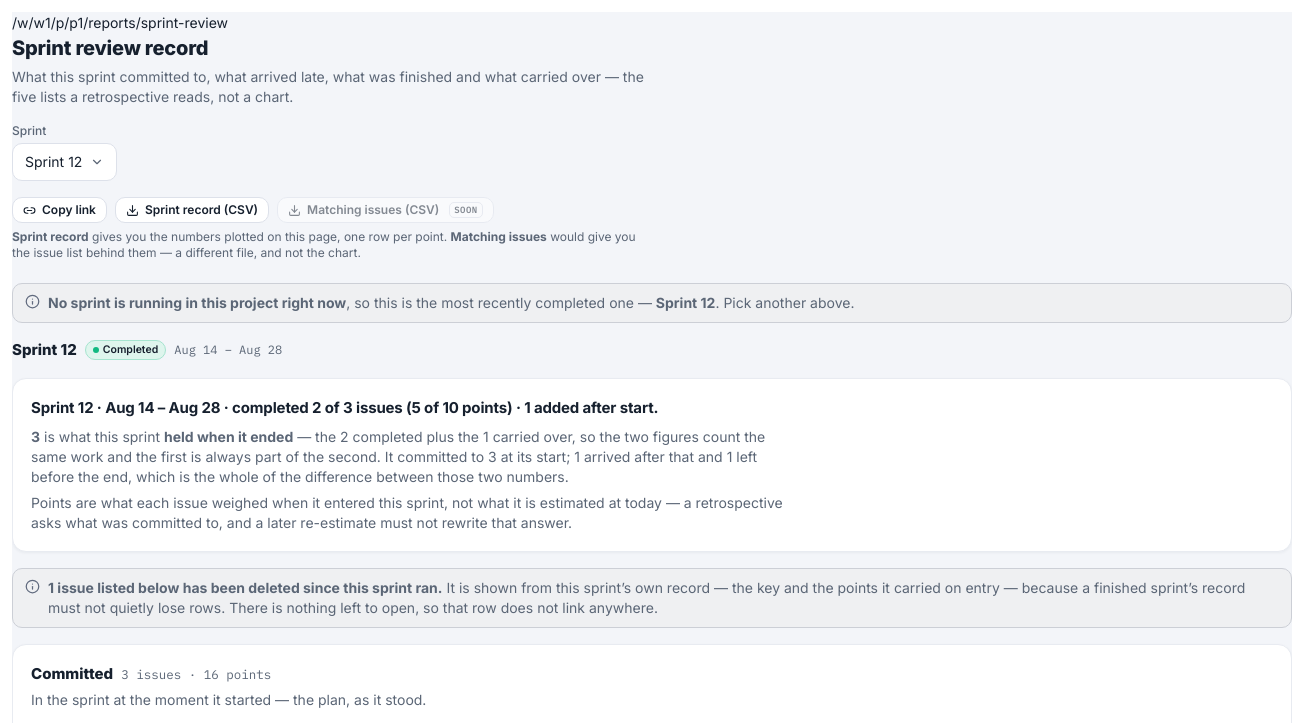
Test case: SprintReviewPage — the sprint, and the URL that names it › writes the chosen sprint into the URL
expect the heading "Committed" is shown: met, box [31,663,113,686]
Click the button labelled "Sprint 12" at (65, 162), box [12,143,117,181]
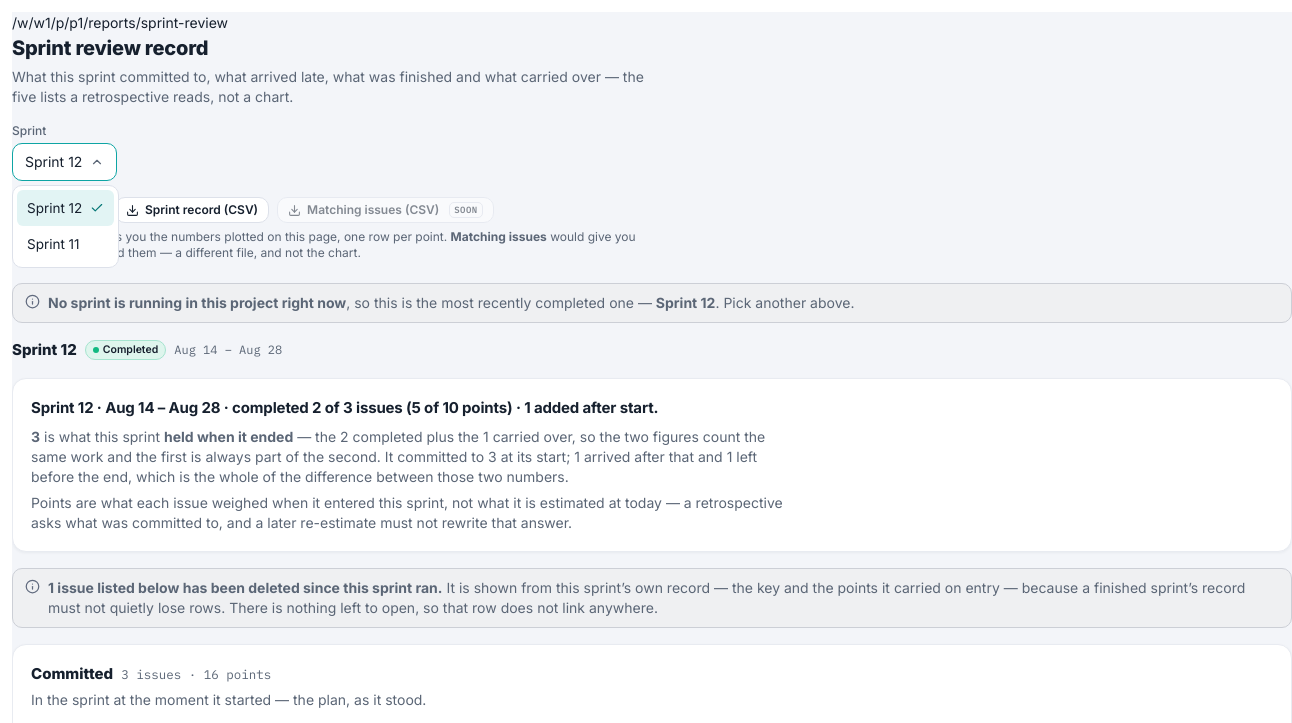
Click the option "Sprint 11" at (53, 244), box [27,236,80,252]
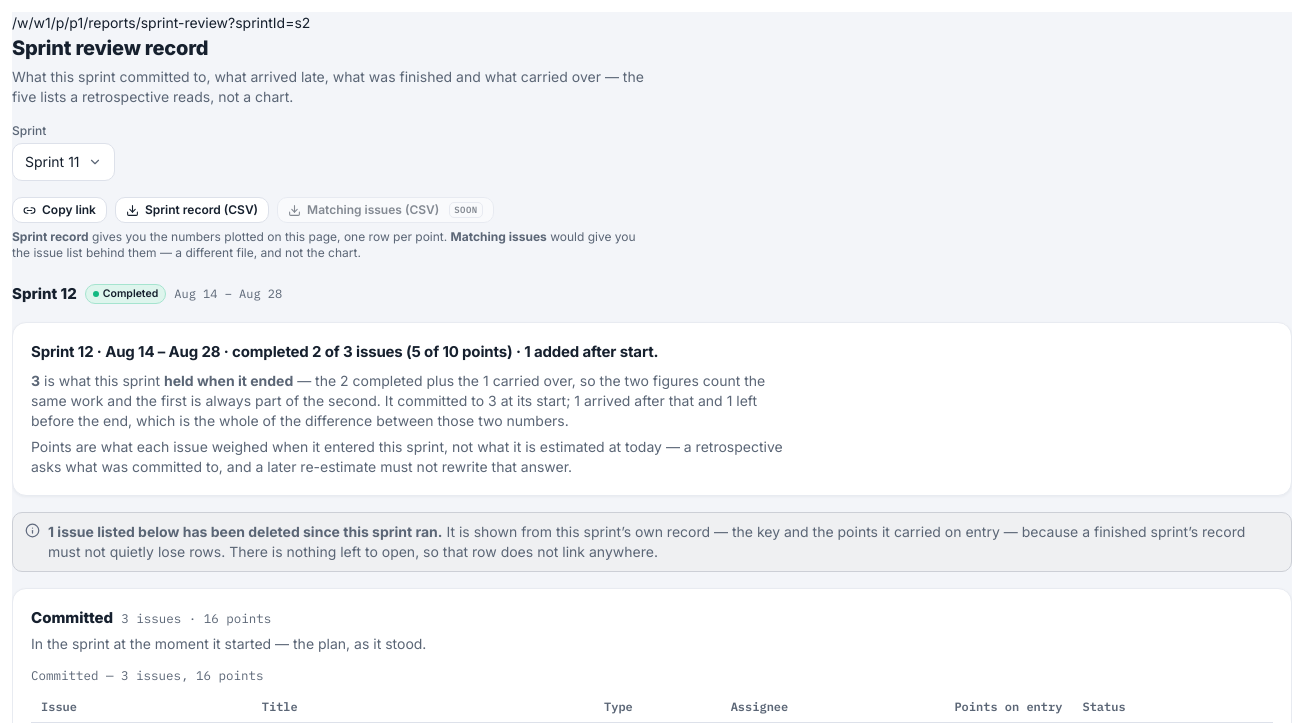
expect the text with test id "loc" shows "sprintId=s2": met, box [12,14,310,31]
